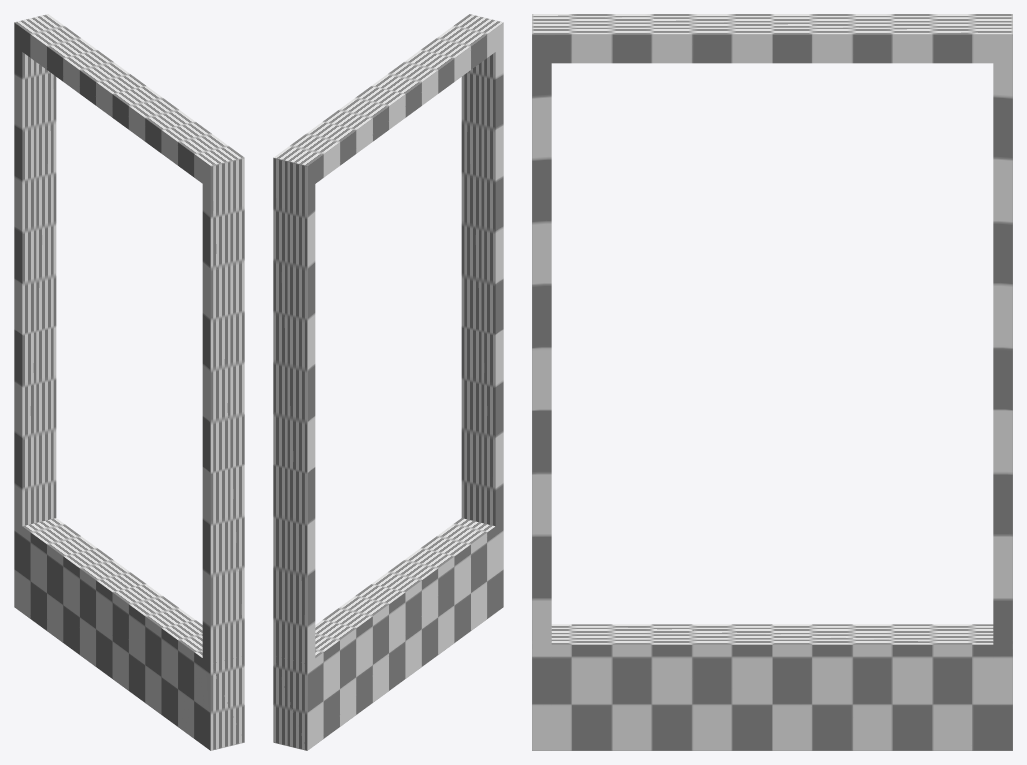
File: ObservatoryWindow_02.fbx
The picture shows the model from 3 angles, left to right: view 1: azimuth 30°, elevation 25°; view 2: azimuth 150°, elevation 25°; view 3: azimuth 270°, elevation 25°; orthographic projection. The views are drawn at different scales.
Parts seen in each view (by area): view 1: ObservatoryWindow_02; view 2: ObservatoryWindow_02; view 3: ObservatoryWindow_02.
Boxes of the visible parts, x1,y1,x2,y2 form: ObservatoryWindow_02: (14, 14, 244, 750); ObservatoryWindow_02: (273, 14, 503, 750); ObservatoryWindow_02: (532, 14, 1012, 750).
Bounding box in the file's own units: 11.85 × 118 × 194.
Materials: 1 (1 with a texture image).
